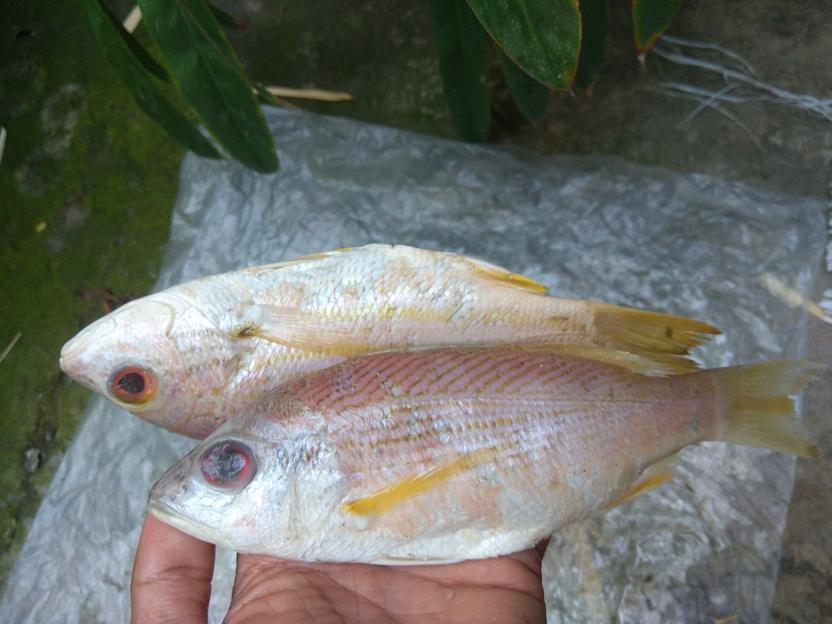Fish head: (144, 396, 342, 564), (58, 273, 239, 439)
Fish tail: (711, 357, 827, 454), (585, 297, 723, 354)
